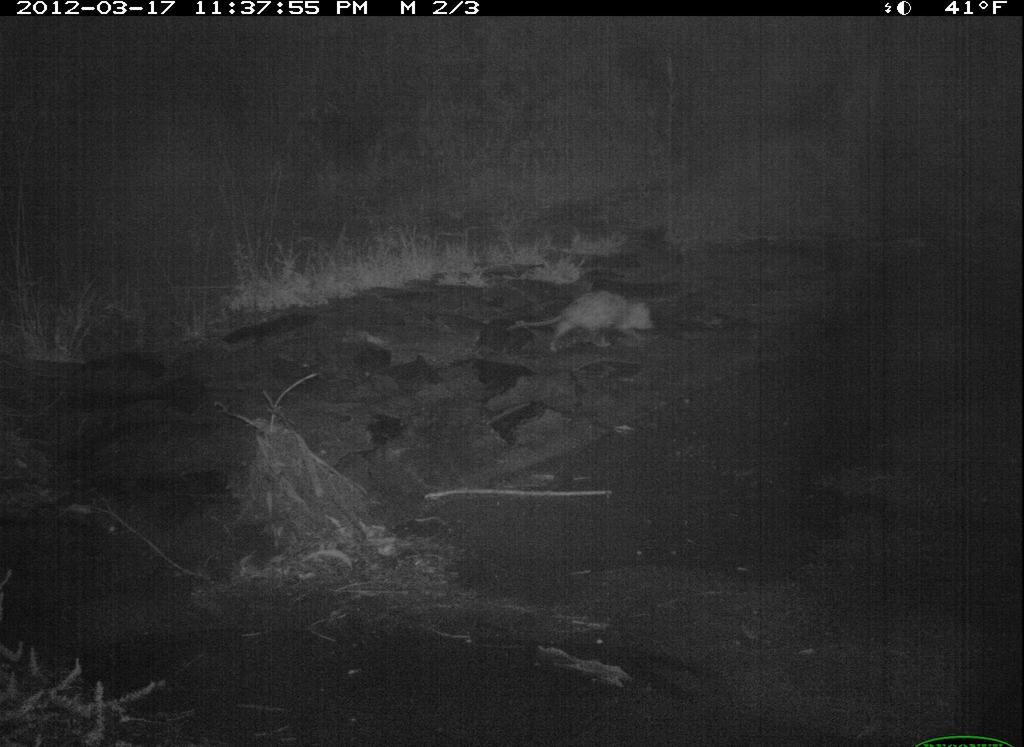opossum: (501, 286, 661, 360)
